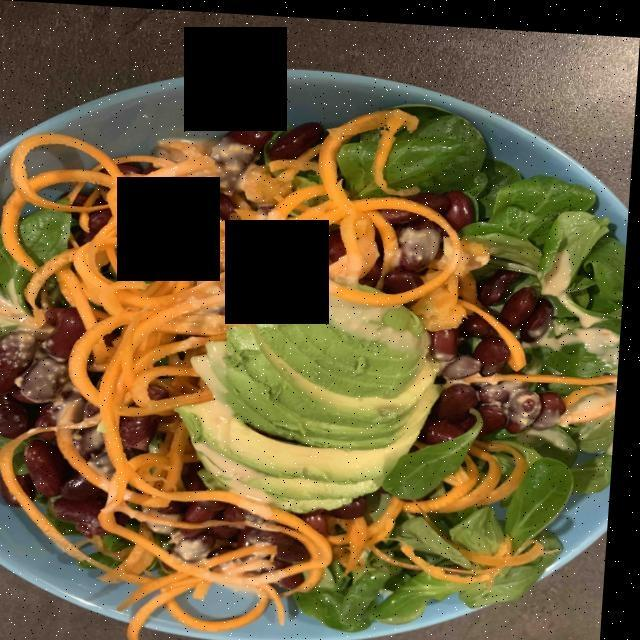avocado: (183, 299, 431, 522)
carrot: (0, 116, 621, 605)
